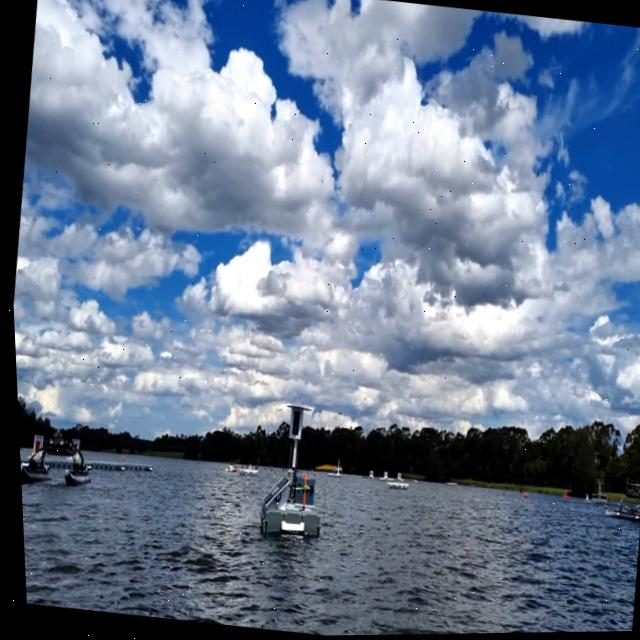led: (285, 409, 298, 439)
